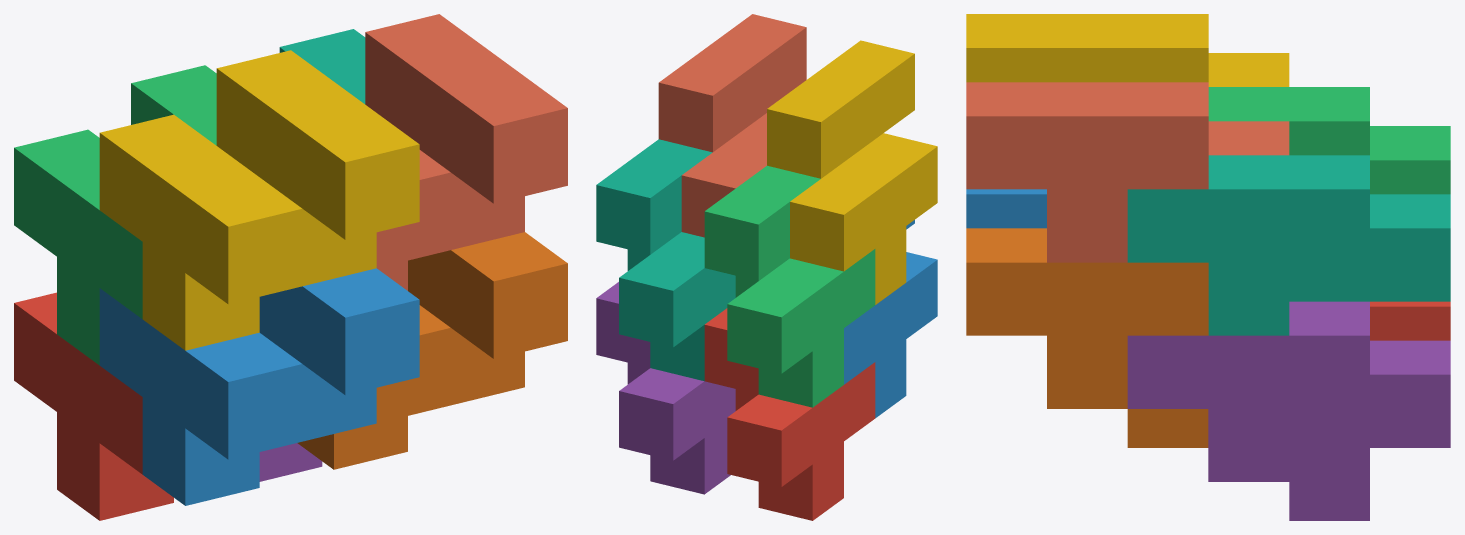
File: tiling.obj
3 views of the same model, side by side, from view 1: azimuth 30°, elevation 25°; view 2: azimuth 150°, elevation 25°; view 3: azimuth 270°, elevation 25° (orthographic). The views are drawn at different scales.
Parts seen in each view (by area): view 1: copy_1_domain_4, copy_1_domain_2, copy_1_domain_8, copy_1_domain_6, copy_1_domain_3, copy_1_domain_1, copy_1_domain_7, copy_1_domain_5; view 2: copy_1_domain_4, copy_1_domain_3, copy_1_domain_7, copy_1_domain_8, copy_1_domain_1, copy_1_domain_5, copy_1_domain_2; view 3: copy_1_domain_5, copy_1_domain_7, copy_1_domain_8, copy_1_domain_6, copy_1_domain_4, copy_1_domain_3, copy_1_domain_1, copy_1_domain_2.
Boxes of the visible parts, <box> form: copy_1_domain_4: <box>99,50,419,350</box>; copy_1_domain_2: <box>99,268,419,505</box>; copy_1_domain_8: <box>365,14,567,290</box>; copy_1_domain_6: <box>297,232,567,469</box>; copy_1_domain_3: <box>14,65,216,365</box>; copy_1_domain_1: <box>14,292,173,520</box>; copy_1_domain_7: <box>279,29,365,104</box>; copy_1_domain_5: <box>259,443,322,481</box>; copy_1_domain_4: <box>767,40,937,304</box>; copy_1_domain_3: <box>704,165,875,407</box>; copy_1_domain_7: <box>596,139,735,381</box>; copy_1_domain_8: <box>658,14,806,237</box>; copy_1_domain_1: <box>704,308,875,520</box>; copy_1_domain_5: <box>596,282,735,494</box>; copy_1_domain_2: <box>844,220,937,418</box>; copy_1_domain_5: <box>1127,301,1450,520</box>; copy_1_domain_7: <box>1127,155,1450,335</box>; copy_1_domain_8: <box>966,82,1289,262</box>; copy_1_domain_6: <box>966,228,1208,447</box>; copy_1_domain_4: <box>966,14,1289,86</box>; copy_1_domain_3: <box>1208,87,1450,194</box>; copy_1_domain_1: <box>1370,301,1450,340</box>; copy_1_domain_2: <box>966,189,1046,228</box>.
Size of the model in its own units: 4 by 6 by 6.
